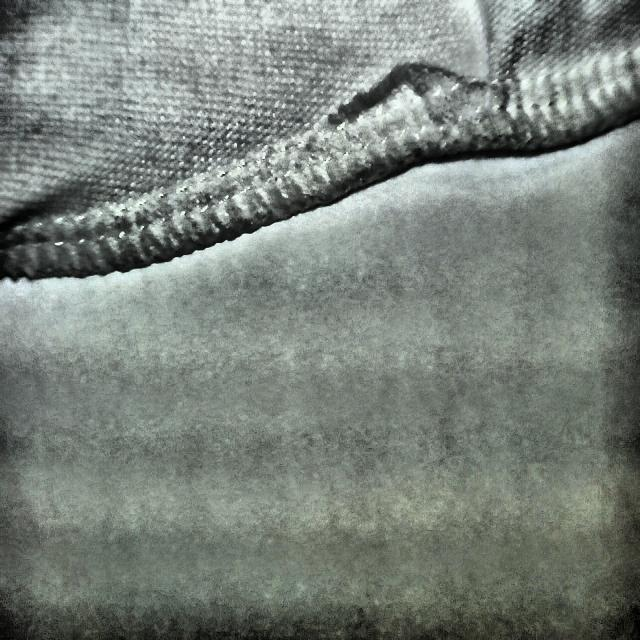gray stitch: (339, 29, 522, 168)
